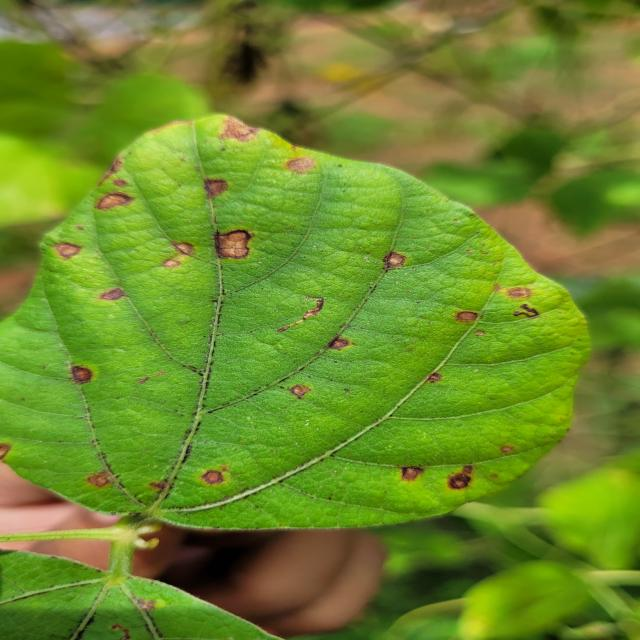Dolicos bean_cercospora leaf spot: (0, 115, 596, 534)
